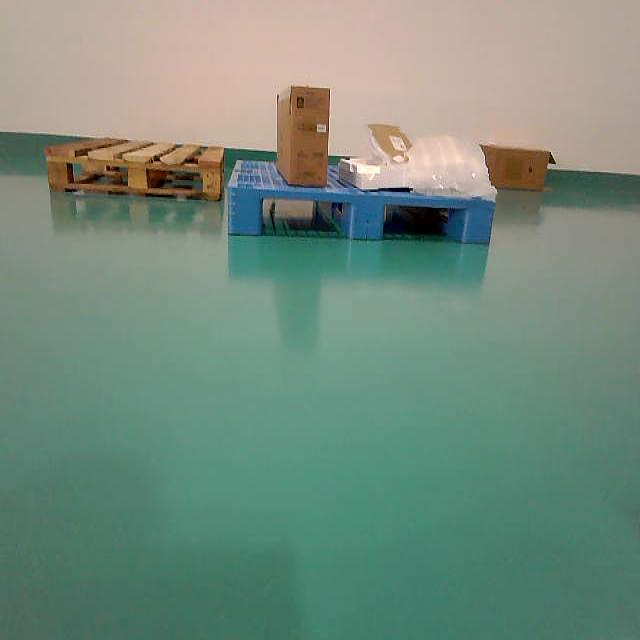euro: (46, 144, 223, 204)
